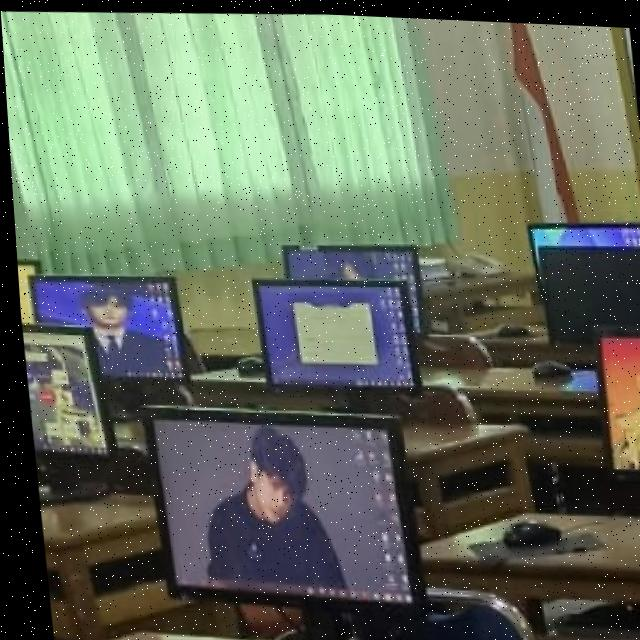offscreen: (537, 242, 640, 338)
onscreen: (139, 407, 416, 598), (249, 277, 412, 384), (27, 275, 181, 378), (278, 242, 422, 331), (19, 326, 100, 452), (593, 330, 640, 465), (527, 219, 640, 257)
